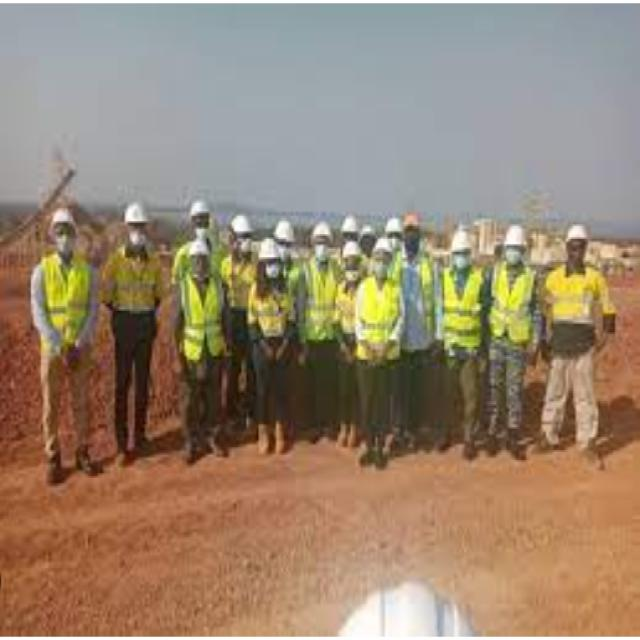boots: (527, 431, 605, 472), (43, 448, 100, 483), (114, 432, 159, 466), (184, 434, 228, 464), (488, 428, 526, 461), (437, 430, 478, 460), (358, 438, 389, 472)
helmet: (47, 207, 78, 254), (124, 201, 152, 249), (563, 222, 589, 264), (503, 222, 528, 264), (231, 213, 256, 254), (257, 238, 282, 279), (188, 199, 212, 240), (188, 241, 212, 282), (311, 221, 333, 263), (274, 219, 296, 260), (341, 239, 362, 281), (372, 237, 393, 277), (452, 231, 473, 267), (382, 216, 404, 248), (341, 215, 359, 246), (359, 223, 376, 253)
vest: (544, 265, 620, 342), (38, 254, 91, 354), (100, 246, 168, 318), (248, 278, 297, 365), (355, 274, 402, 363), (178, 274, 225, 362), (171, 240, 222, 320), (487, 262, 536, 344), (439, 266, 486, 350), (394, 253, 436, 338), (221, 253, 263, 337), (303, 258, 339, 344), (336, 280, 368, 339), (273, 257, 302, 318)
